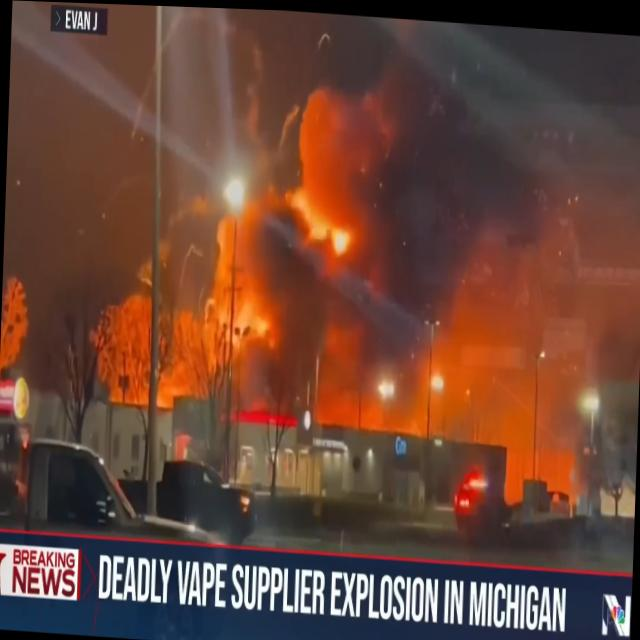Fire: (112, 49, 597, 457)
